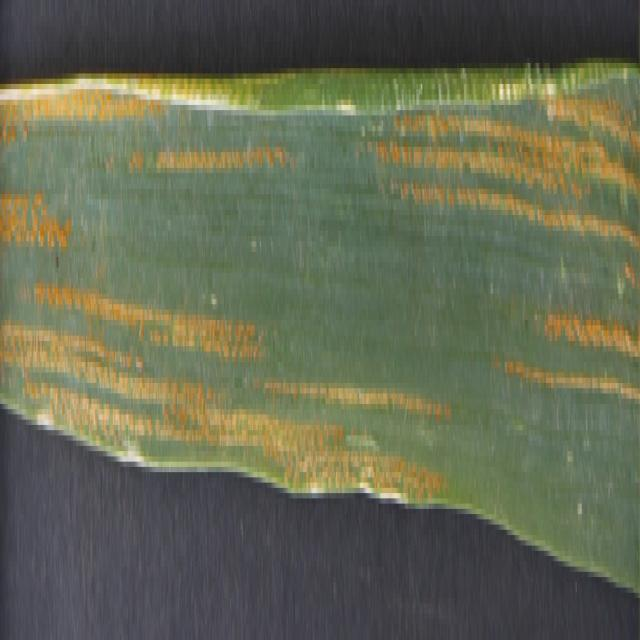leaf rust: (0, 78, 640, 482)
